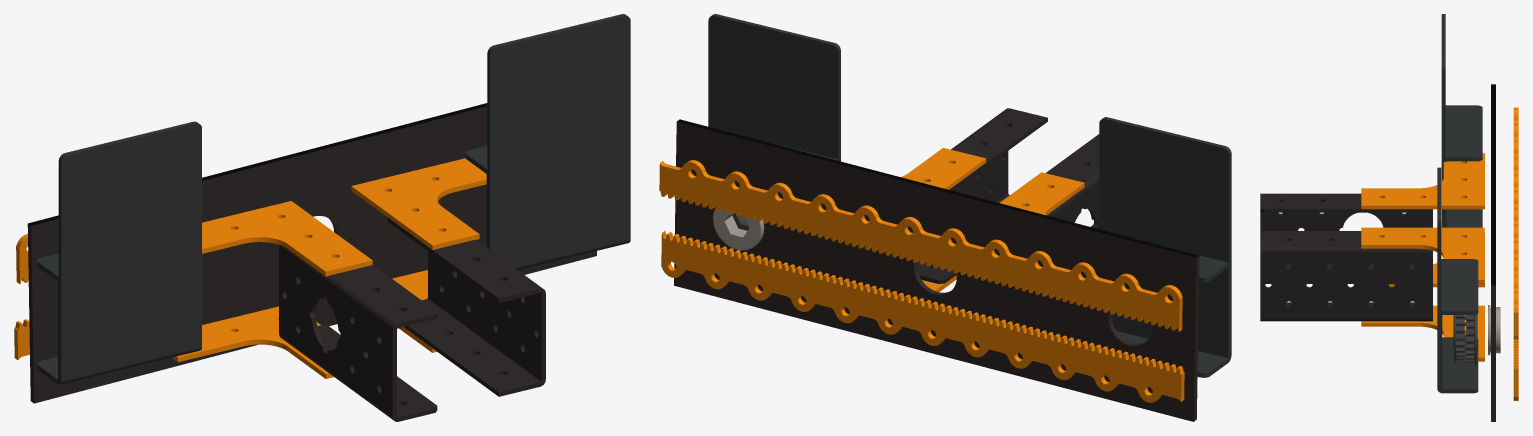
3 views of the same model, side by side, from view 1: azimuth 30°, elevation 25°; view 2: azimuth 150°, elevation 25°; view 3: azimuth 270°, elevation 25° (orthographic). The views are drawn at different scales.
Parts seen in each view (by area): view 1: Part 1 (×7), 217-4108-STEP-20140806 (×2), WCP-0291 (×2); view 2: Part 1 (×5), WCP-0291 (×2), 217-4108-STEP-20140806 (×2), am-2986 FR8ZZ Hex Bearing; view 3: 217-4108-STEP-20140806 (×2), Part 1 (×6), WCP-0291 (×2), am-3403 24 tooth HTD pulley half 500hex (×2), am-2986 FR8ZZ Hex Bearing.
Boxes of the visible parts, x1,y1,x2,y2 form: Part 1 (×7): (27, 14, 630, 403); 217-4108-STEP-20140806 (×2): (279, 217, 545, 421); WCP-0291 (×2): (14, 233, 29, 359); Part 1 (×5): (674, 14, 1231, 421); WCP-0291 (×2): (659, 160, 1184, 402); 217-4108-STEP-20140806 (×2): (916, 108, 1099, 284); am-2986 FR8ZZ Hex Bearing: (713, 208, 764, 250); 217-4108-STEP-20140806 (×2): (1260, 193, 1432, 321); Part 1 (×6): (1361, 14, 1495, 421); WCP-0291 (×2): (1513, 107, 1518, 400); am-3403 24 tooth HTD pulley half 500hex (×2): (1453, 314, 1477, 366); am-2986 FR8ZZ Hex Bearing: (1488, 305, 1500, 355).
Bounding box in the file's own units: 0.308 × 0.1438 × 0.1595.
